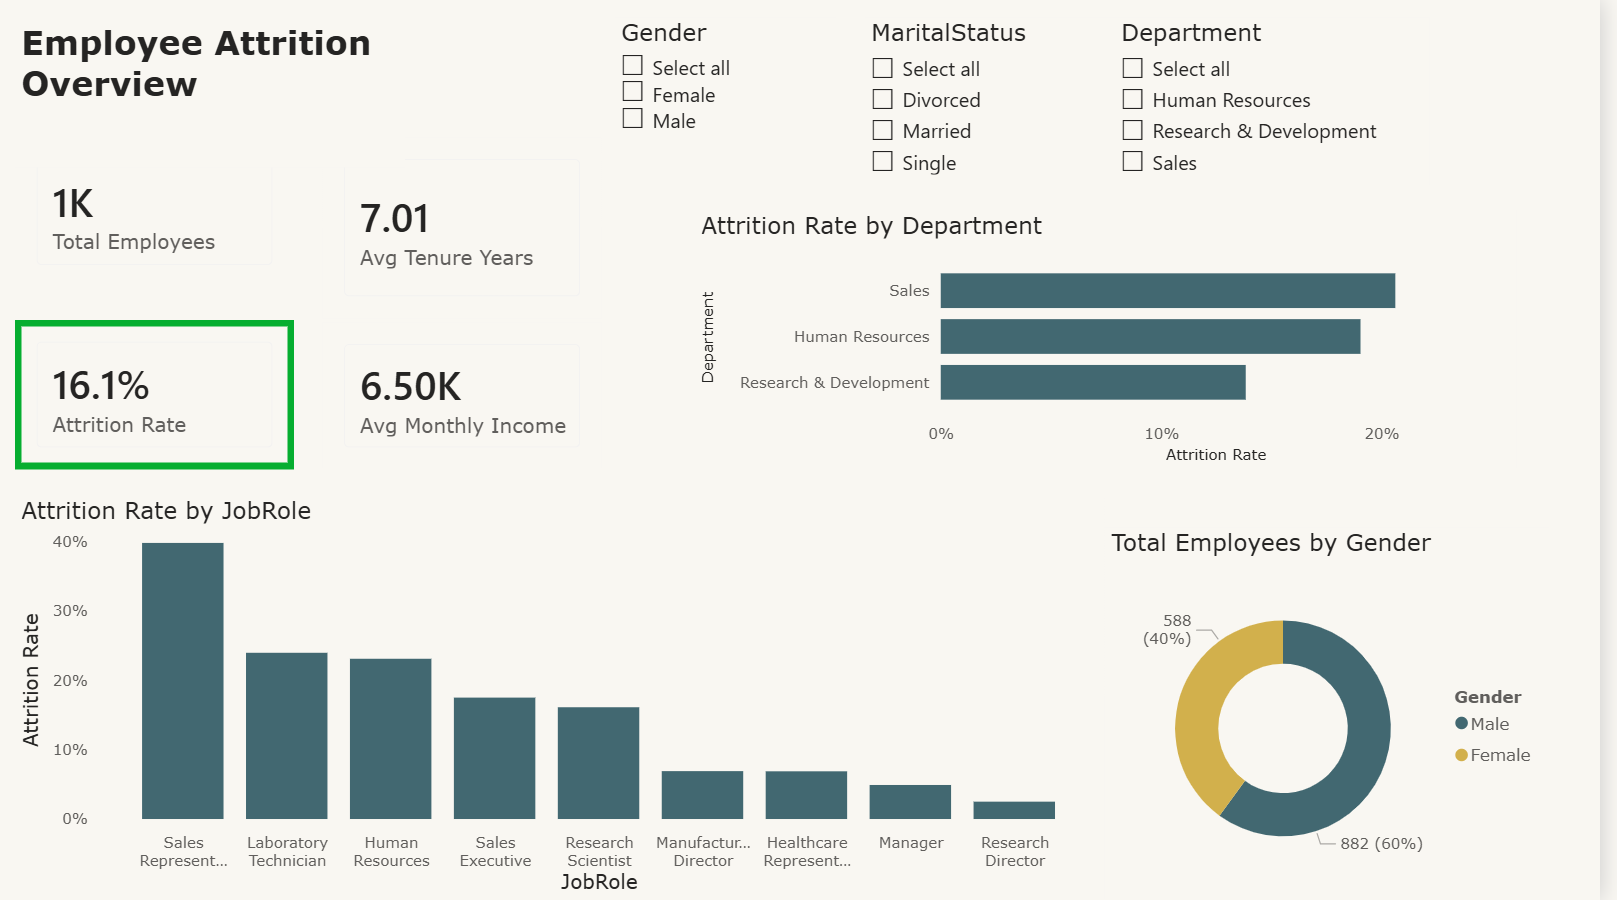

The page's visual inventory and layout, read from the dashboard file:
{"tool":"powerbi","page":{"name":"Executive Overview","canvas":[1280,720],"ordinal":0},"visuals":[{"type":"cardVisual","fields":{"Data":["Employees.Total Employees"]},"box":[12.5,110.7,223.2,119.6],"z":0},{"type":"cardVisual","fields":{"Data":["Employees.Avg Monthly Income"]},"box":[257.1,257.1,223.2,117.9],"z":1000},{"type":"cardVisual","fields":{"Data":["Employees.Avg Tenure Years"]},"box":[257.1,110.7,223.2,144.6],"z":2000},{"type":"cardVisual","fields":{"Data":["Employees.Attrition Rate"]},"box":[12.5,255.4,223.2,119.6],"z":3000},{"type":"clusteredBarChart","fields":{"Category":["Employees.Department"],"Y":["Employees.Attrition Rate"]},"box":[555.4,167.9,657.1,207.1],"z":4000},{"type":"donutChart","fields":{"Category":["Employees.Gender"],"Y":["Employees.Total Employees"]},"box":[883.9,421.4,355.4,298.2],"z":5000},{"type":"lineClusteredColumnComboChart","fields":{"Category":["Employees.JobRole"],"Y":["Employees.Attrition Rate"]},"box":[12.5,396.4,871.4,323.2],"z":6000},{"type":"listSlicer","fields":{"Values":["Employees.Gender"]},"box":[492.9,14.3,176.8,96.4],"z":7000},{"type":"textbox","box":[12,12,312,122],"z":8000},{"type":"listSlicer","fields":{"Values":["Employees.MaritalStatus"]},"box":[692,14.3,223.2,135.7],"z":9000},{"type":"listSlicer","fields":{"Values":["Employees.Department"]},"box":[892,14.3,251.8,133.9],"z":10000}]}

Visuals, with their boxes in screenshot pixels (x1, y1, x2, y2), scaled from the page's 1280x720 canvas onto the 1617x900 screenshot:
cardVisual - Employees.Total Employees: [x1=16, y1=138, x2=298, y2=288]
cardVisual - Employees.Avg Monthly Income: [x1=325, y1=321, x2=607, y2=469]
cardVisual - Employees.Avg Tenure Years: [x1=325, y1=138, x2=607, y2=319]
cardVisual - Employees.Attrition Rate: [x1=16, y1=319, x2=298, y2=469]
clusteredBarChart - Employees.Department x Employees.Attrition Rate: [x1=702, y1=210, x2=1532, y2=469]
donutChart - Employees.Gender x Employees.Total Employees: [x1=1117, y1=527, x2=1566, y2=899]
lineClusteredColumnComboChart - Employees.JobRole x Employees.Attrition Rate: [x1=16, y1=496, x2=1117, y2=899]
listSlicer - Employees.Gender: [x1=623, y1=18, x2=846, y2=138]
textbox: [x1=15, y1=15, x2=409, y2=168]
listSlicer - Employees.MaritalStatus: [x1=874, y1=18, x2=1156, y2=188]
listSlicer - Employees.Department: [x1=1127, y1=18, x2=1445, y2=185]
